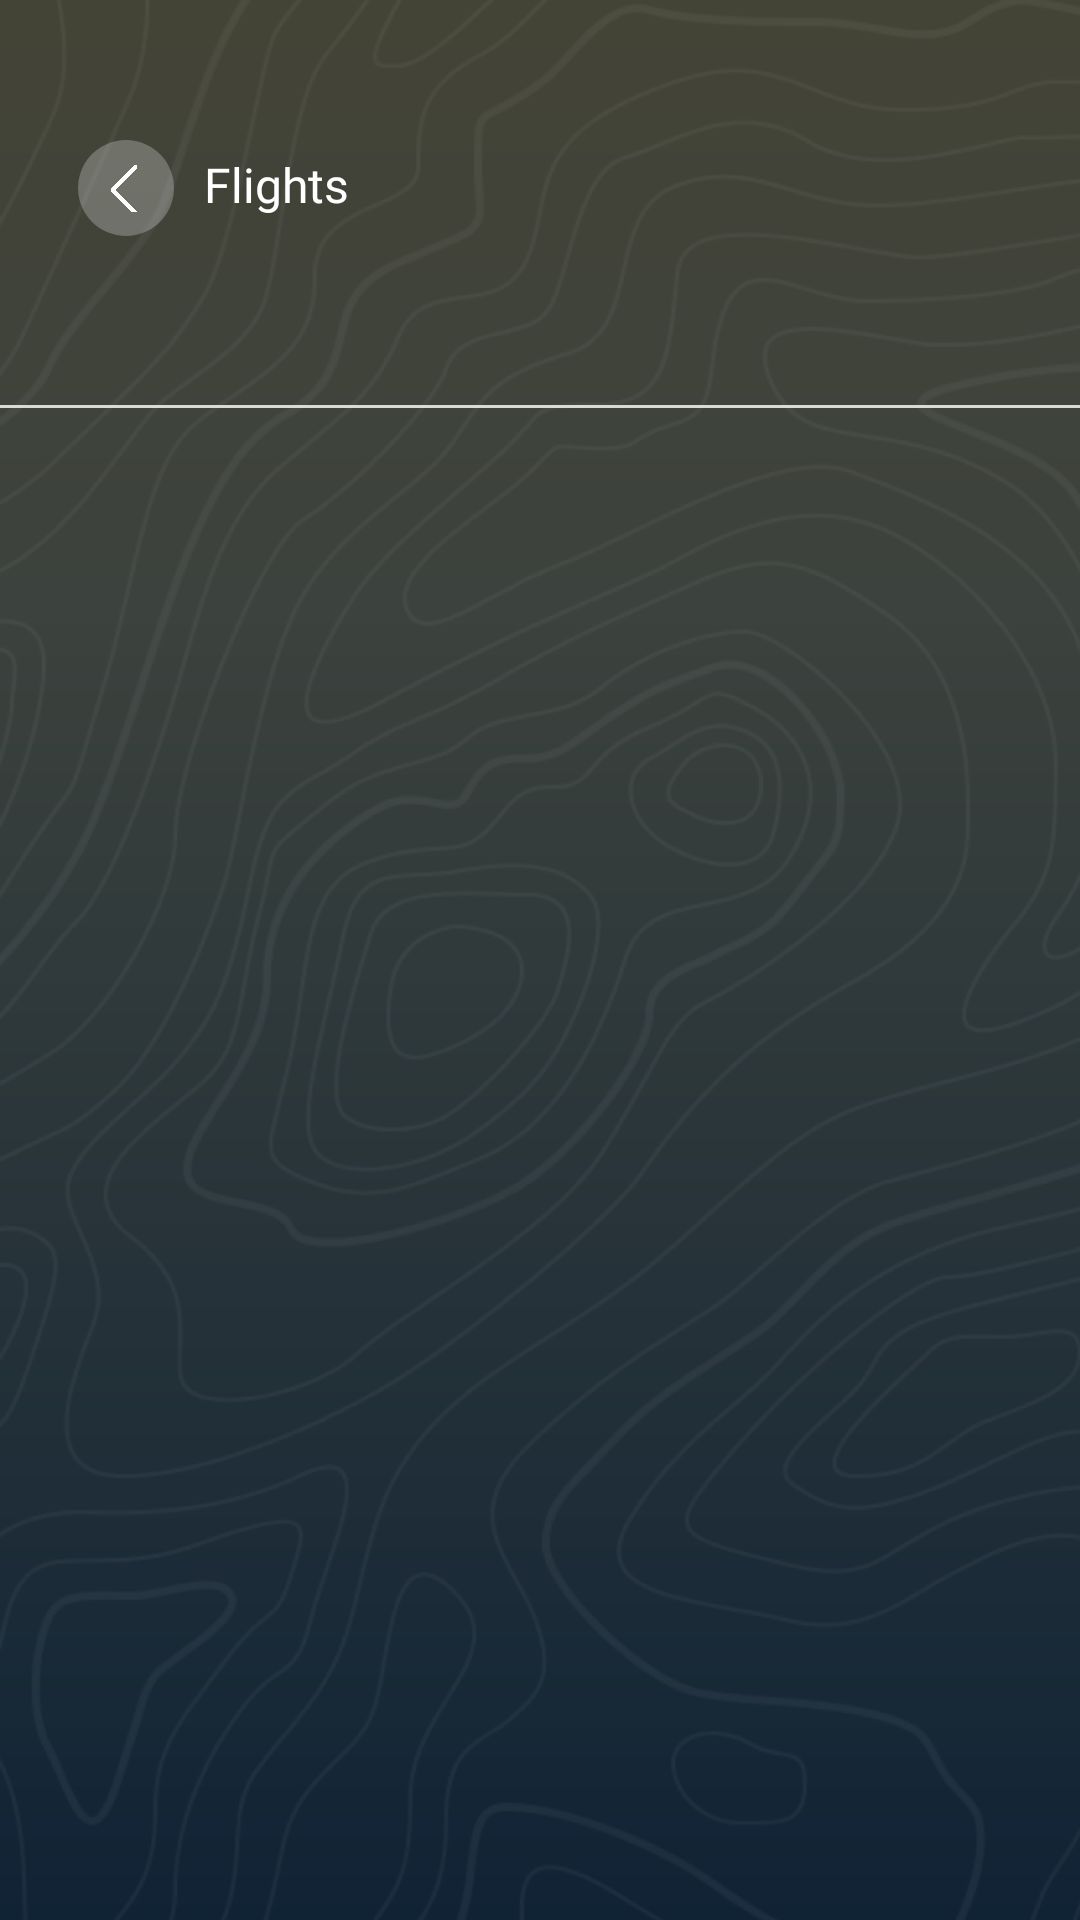

Point at icon controls on the screen. Image size 1080px×1920px, points as (x=x, y=y).
arrow back: (x=124, y=188)
